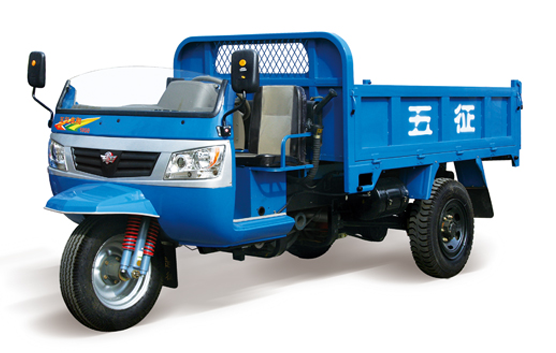tricycle: (17, 34, 533, 325)
